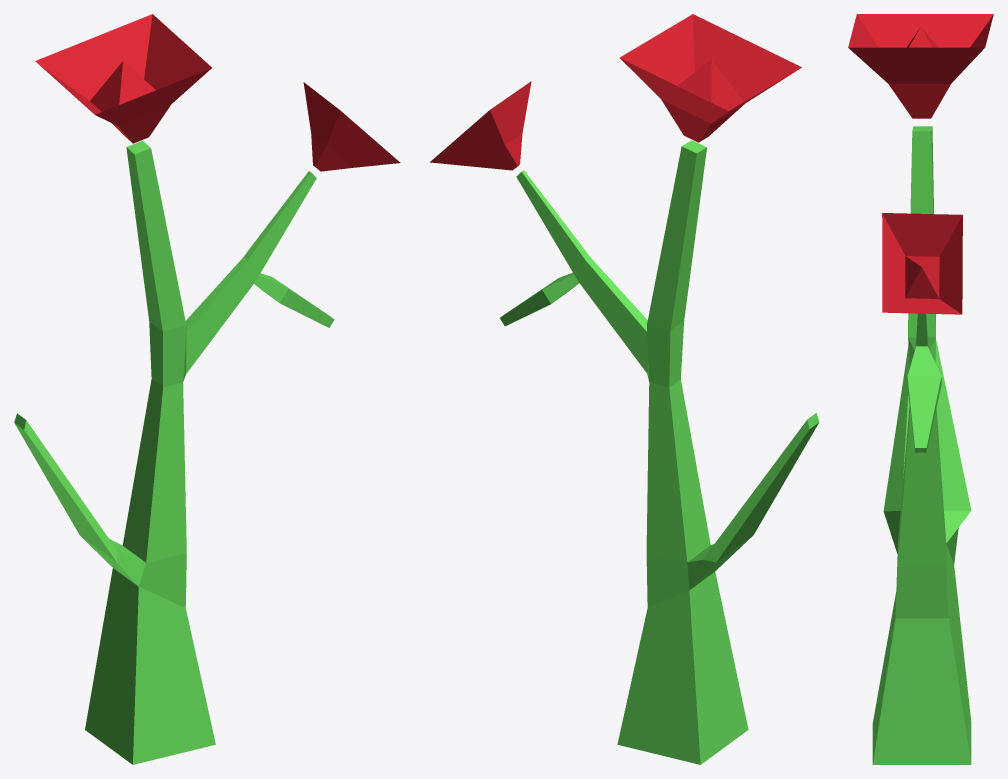
Rendered from ROZA_1.fbx.
3 views of the same model, side by side, from view 1: azimuth 30°, elevation 25°; view 2: azimuth 150°, elevation 25°; view 3: azimuth 270°, elevation 25° (orthographic). The views are drawn at different scales.
Parts seen in each view (by area): view 1: Cube; view 2: Cube; view 3: Cube.
Boxes of the visible parts, x1=… form: Cube: x1=14, y1=14, x2=400, y2=764; Cube: x1=430, y1=14, x2=819, y2=764; Cube: x1=848, y1=14, x2=993, y2=764.
Bounding box in the file's own units: 573 × 1041 × 193.
